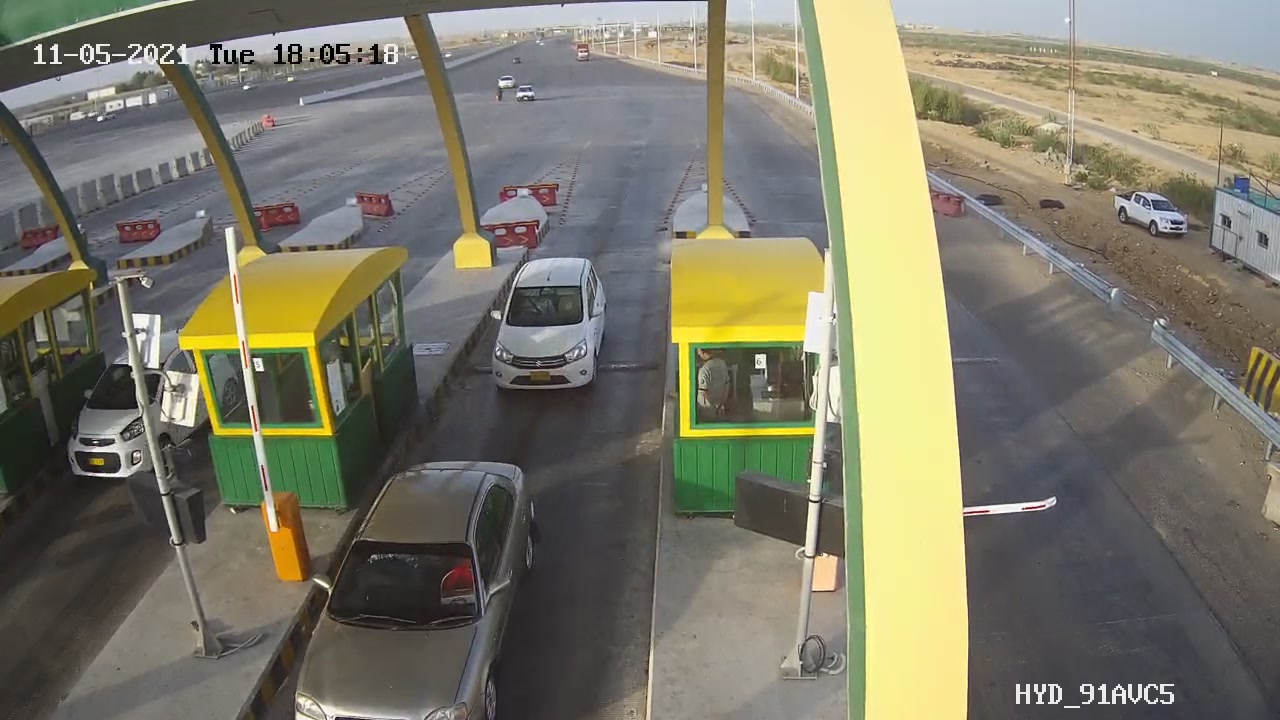F1: (479, 239, 624, 412)
